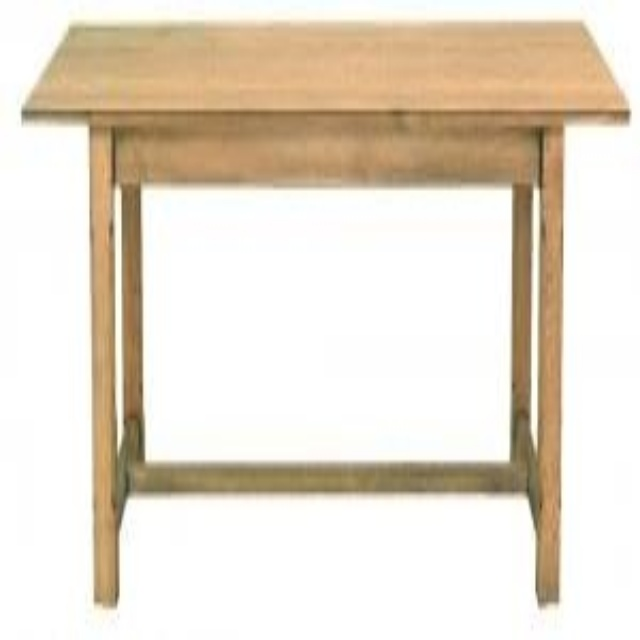obstacle: (21, 21, 627, 603)
